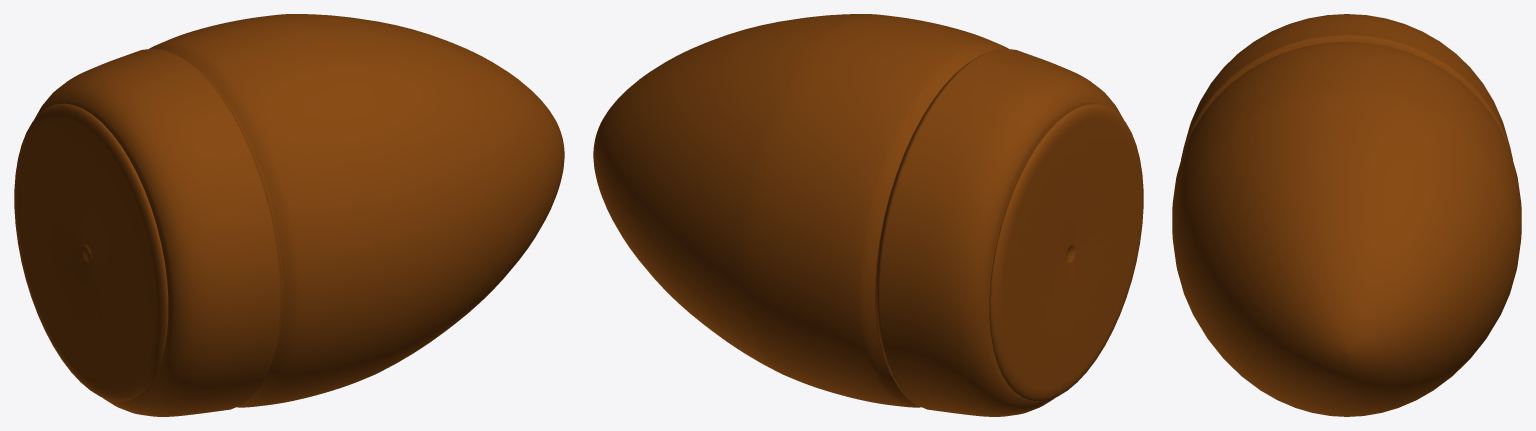
The model's file is EnemyBomb.obj.
3 renders of one model, left to right at view 1: azimuth 30°, elevation 25°; view 2: azimuth 150°, elevation 25°; view 3: azimuth 270°, elevation 25°, orthographic. The views are drawn at different scales.
Visible parts, largest first — view 1: EnemyBomb_Enemy_Bomb; view 2: EnemyBomb_Enemy_Bomb; view 3: EnemyBomb_Enemy_Bomb.
Part boxes in pixels (box(x1,y1,x2,y2)): EnemyBomb_Enemy_Bomb: box(14, 14, 564, 416); EnemyBomb_Enemy_Bomb: box(593, 14, 1143, 416); EnemyBomb_Enemy_Bomb: box(1172, 14, 1521, 416).
Size of the model in its own units: 0.2699 by 0.191 by 0.1906.
